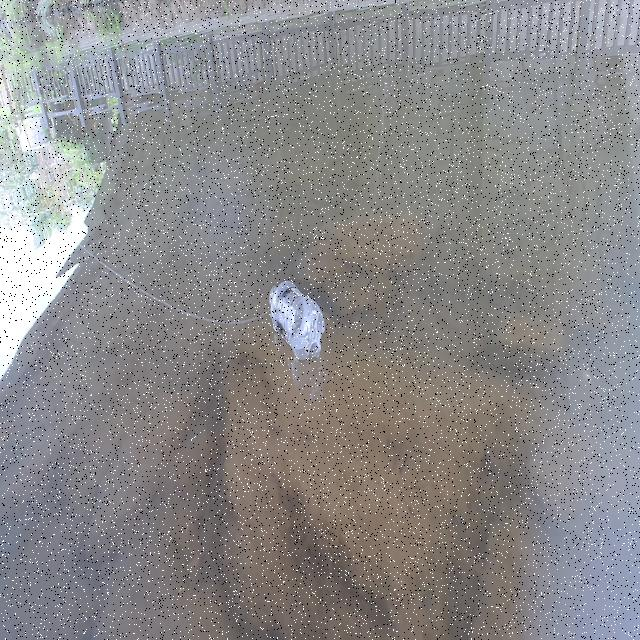Bottle: (266, 276, 326, 362)
